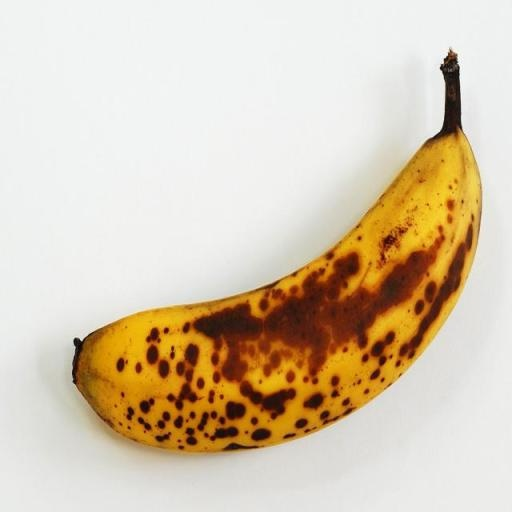fruit: (72, 52, 480, 451)
